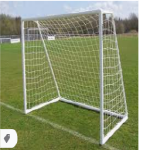goals: (20, 8, 129, 146)
